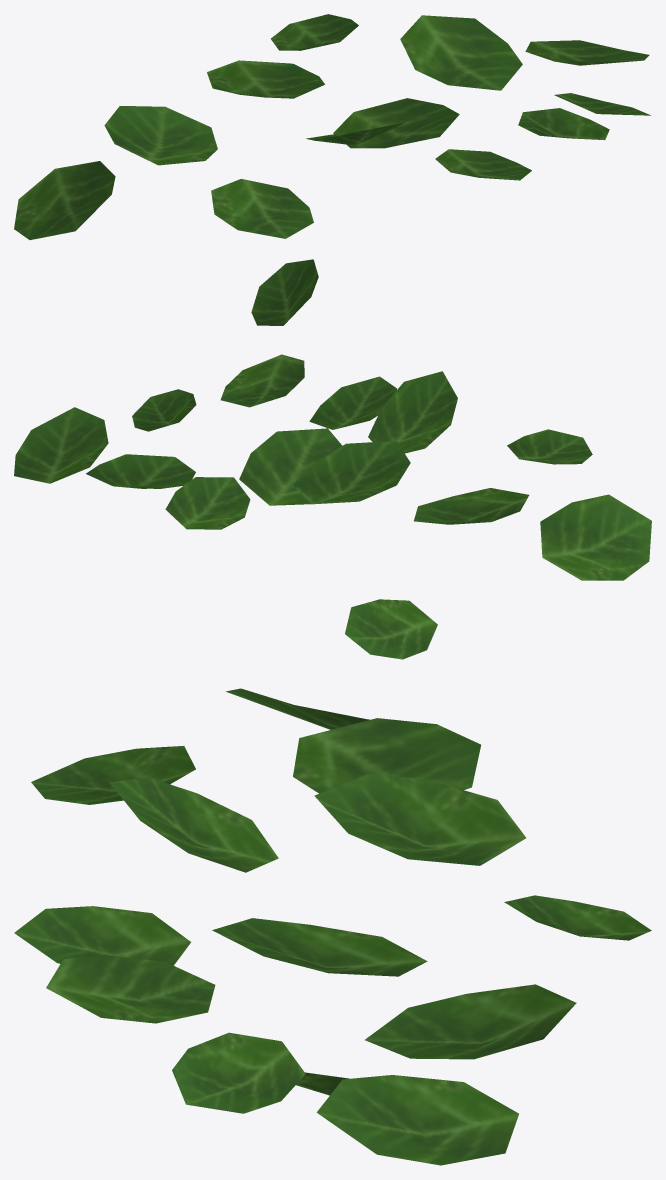
The model's file is SM_Tree_And_Bushes.fbx_SM_Bush_13.fbx.
3 renders of one model, top to bottom at view 1: azimuth 30°, elevation 25°; view 2: azimuth 150°, elevation 25°; view 3: azimuth 270°, elevation 25°, orthographic. The views are drawn at different scales.
Visible parts, largest first — view 1: SM_Tree_23; view 2: SM_Tree_23; view 3: SM_Tree_23.
Boxes of the visible parts, x1=… form: SM_Tree_23: x1=14, y1=14, x2=650, y2=325; SM_Tree_23: x1=14, y1=354, x2=651, y2=659; SM_Tree_23: x1=14, y1=688, x2=651, y2=1165.
Size of the model in its own units: 1331 by 470 by 786.
